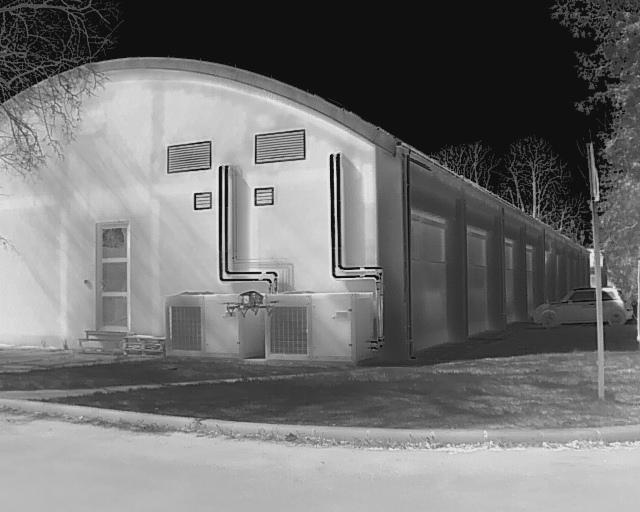drone: (214, 286, 283, 323)
